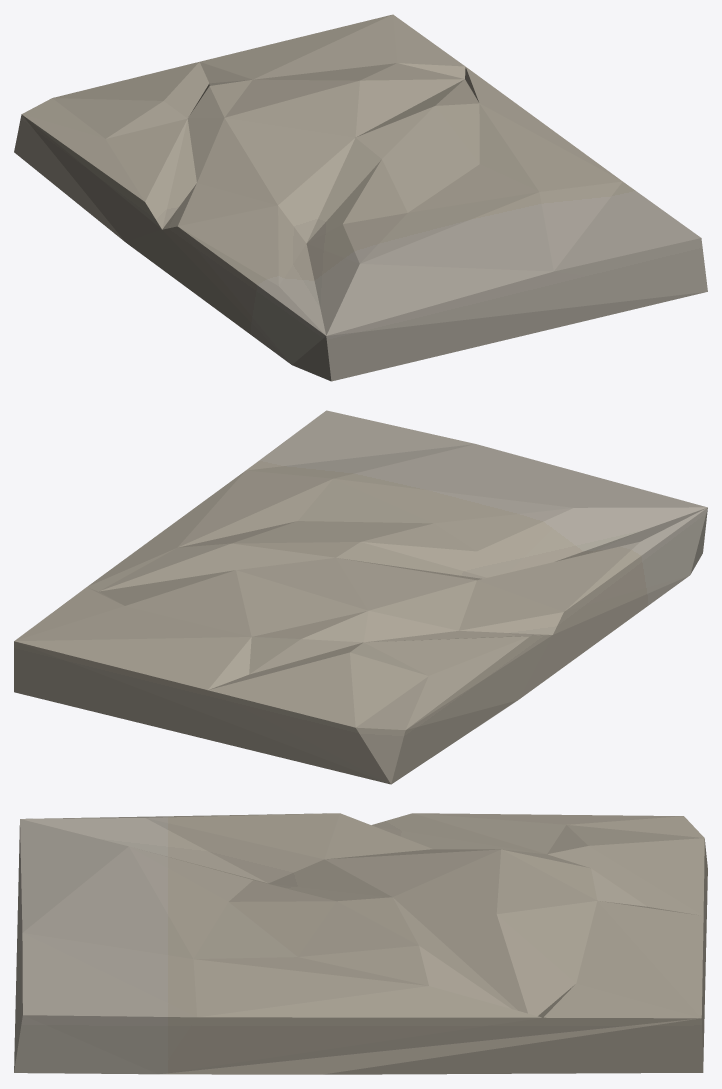
File: YN_RockPlate8.fbx
3 renders of one model, top to bottom at view 1: azimuth 30°, elevation 25°; view 2: azimuth 150°, elevation 25°; view 3: azimuth 270°, elevation 25°, orthographic. The views are drawn at different scales.
Visible parts, largest first — view 1: RockPlate8; view 2: RockPlate8; view 3: RockPlate8.
Boxes of the visible parts, <box> form: RockPlate8: <box>14,14,707,381</box>; RockPlate8: <box>14,410,707,784</box>; RockPlate8: <box>14,813,707,1074</box>.
Bounding box in the file's own units: 1.81 × 0.4555 × 2.54.
